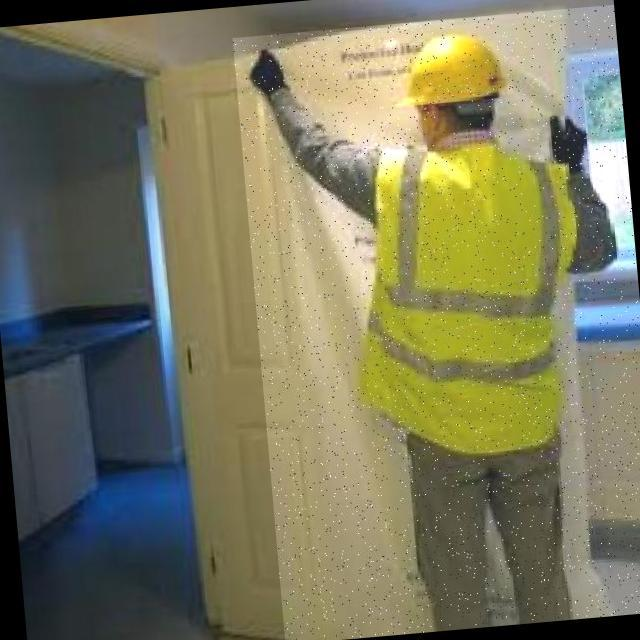Gloves: (544, 106, 595, 180), (246, 43, 290, 98)
Helmet: (392, 28, 510, 114)
Person: (214, 12, 629, 640)
Safety Vest: (344, 125, 595, 465)
